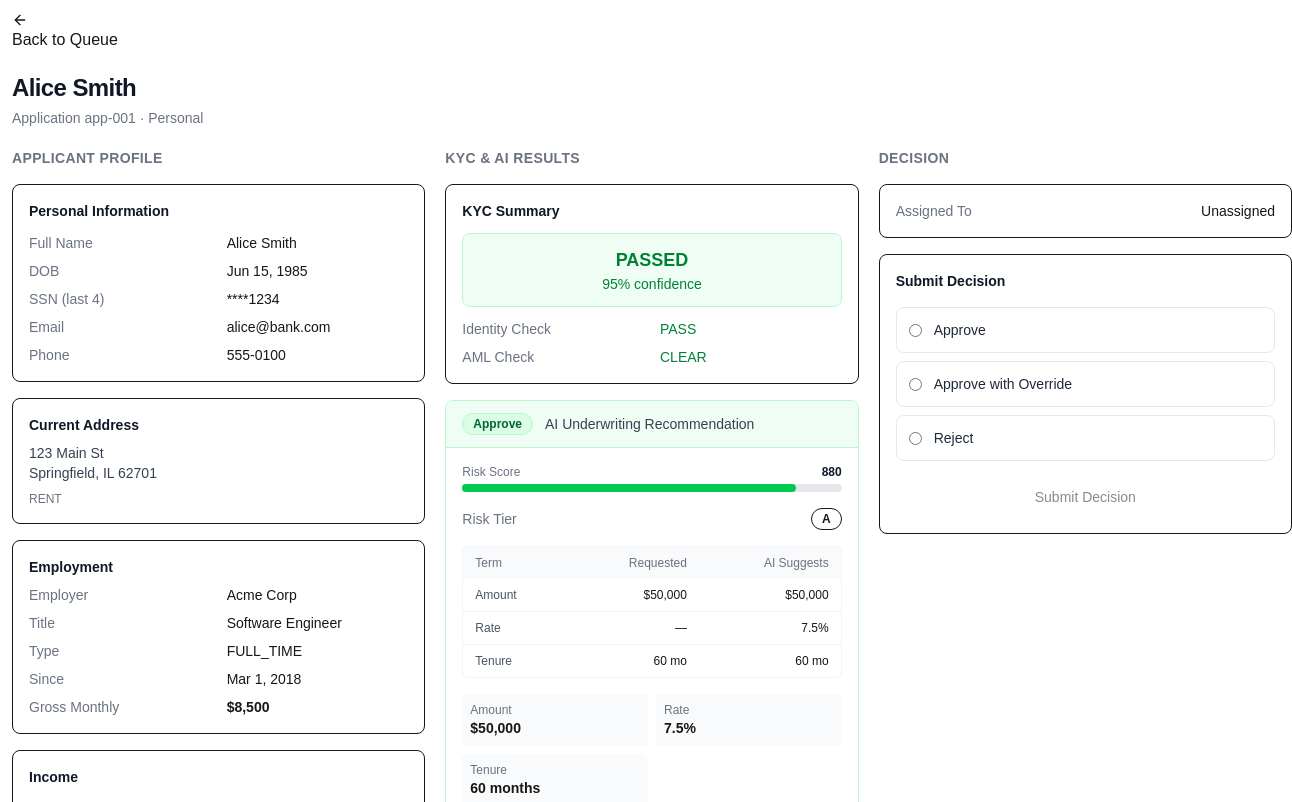
Test case: ReviewQueueDetailPage › decision form › shows override inputs when APPROVE WITH OVERRIDE is selected
Click the radio button labelled "Approve with Override" at (915, 384), box [909, 378, 922, 390]
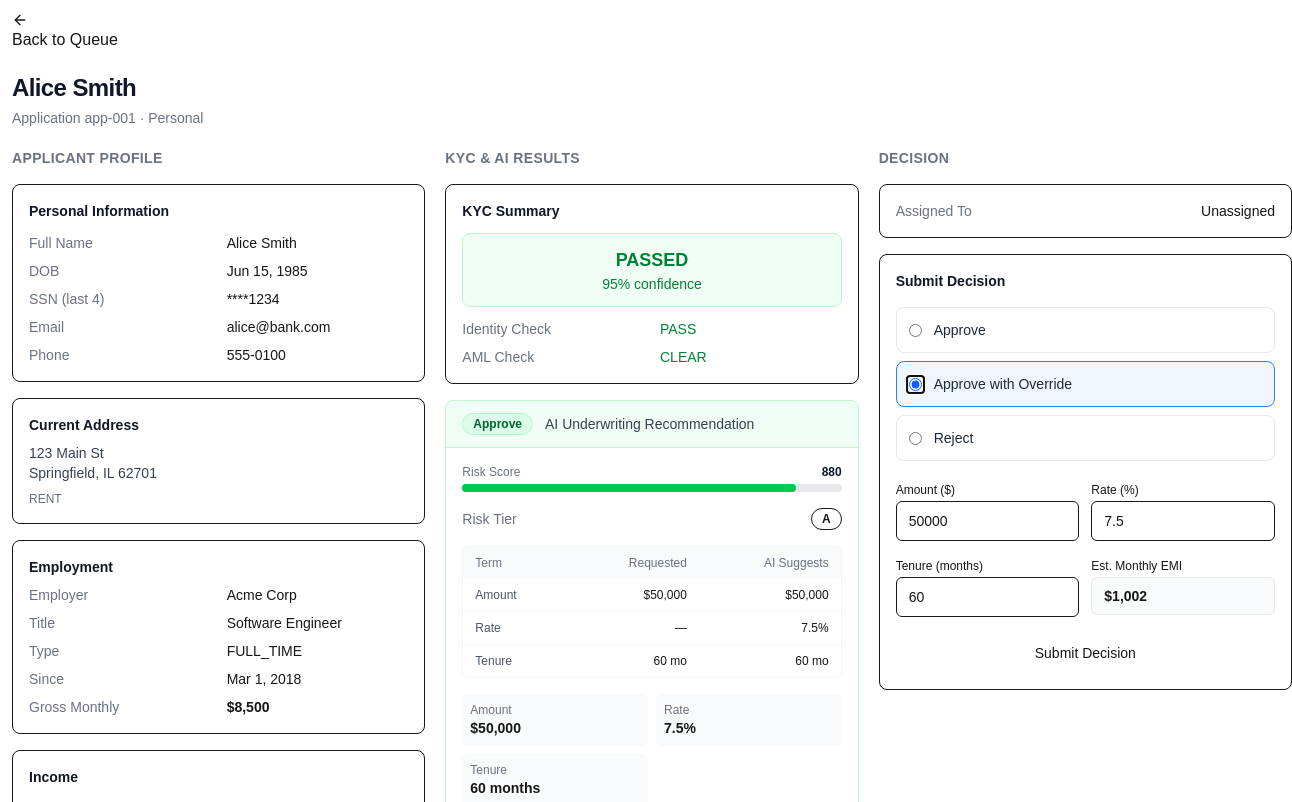
Now the number field labelled "Amount ($)" is shown, box [896, 501, 1079, 541]
Now the number field labelled "Rate (%)" is shown, box [1091, 501, 1275, 541]
Now the number field labelled "Tenure (months)" is shown, box [896, 577, 1079, 617]
